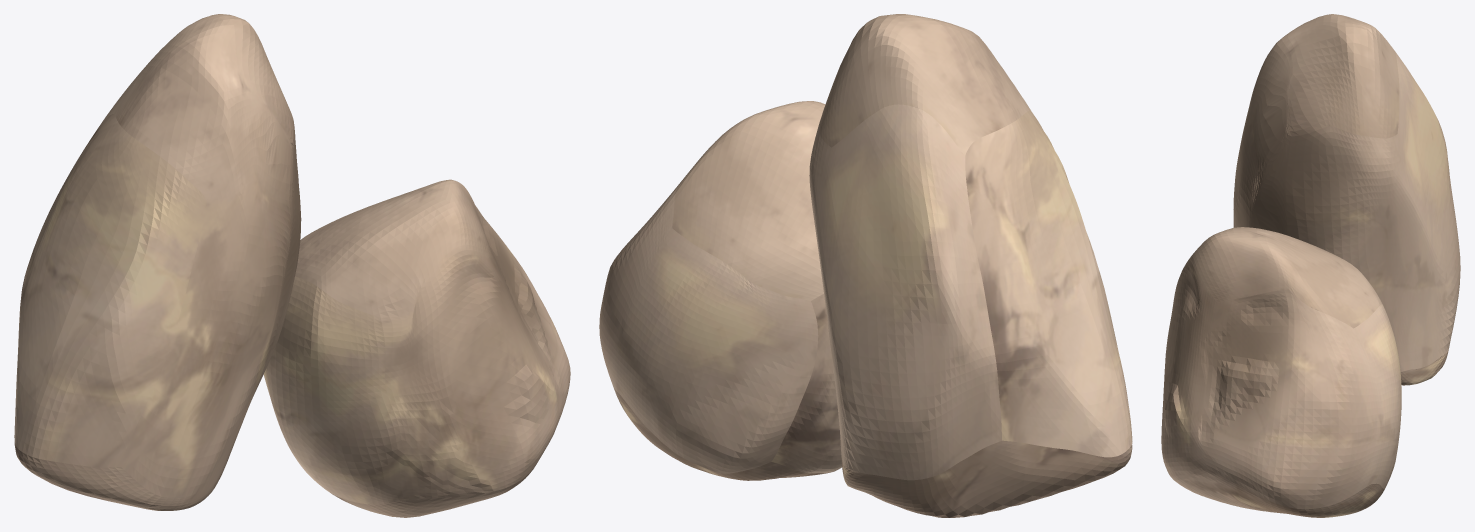
File: Big stone.004.fbx
3 renders of one model, left to right at view 1: azimuth 30°, elevation 25°; view 2: azimuth 150°, elevation 25°; view 3: azimuth 270°, elevation 25°, orthographic. The views are drawn at different scales.
Parts seen in each view (by area): view 1: Big stone.004_Baked; view 2: Big stone.004_Baked; view 3: Big stone.004_Baked.
Part boxes in pixels (box(x1,y1,x2,y2)): Big stone.004_Baked: box(14, 14, 570, 517); Big stone.004_Baked: box(599, 14, 1132, 517); Big stone.004_Baked: box(1161, 14, 1460, 517).
Size of the model in its own units: 40.44 by 36.29 by 23.73.
1 material, 1 textured.
